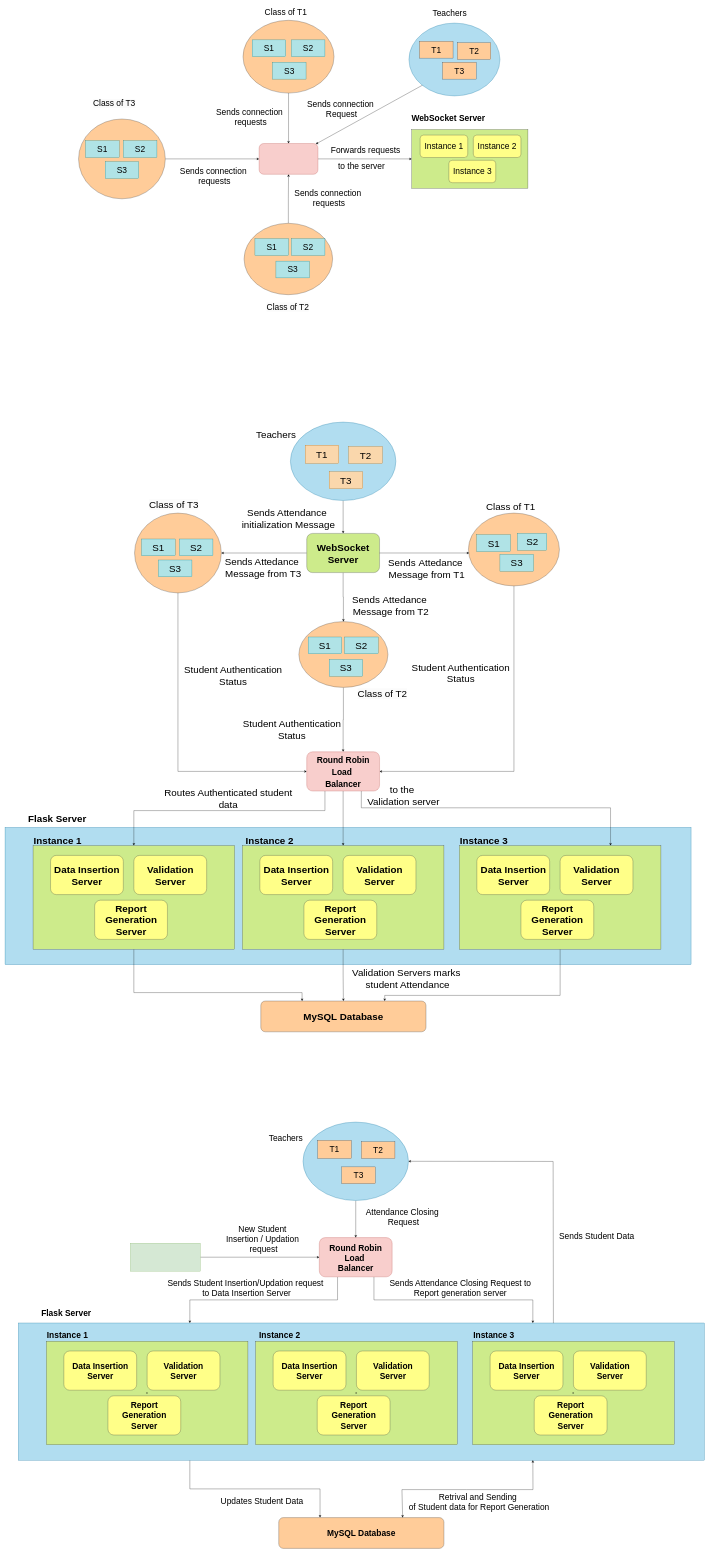
This 709x1553 diagram has some shape labels left out. Each missing label, with the box of its shape:
Admin: (130, 1243, 200, 1271)
Least Connections Load Balancer: (259, 143, 318, 174)
